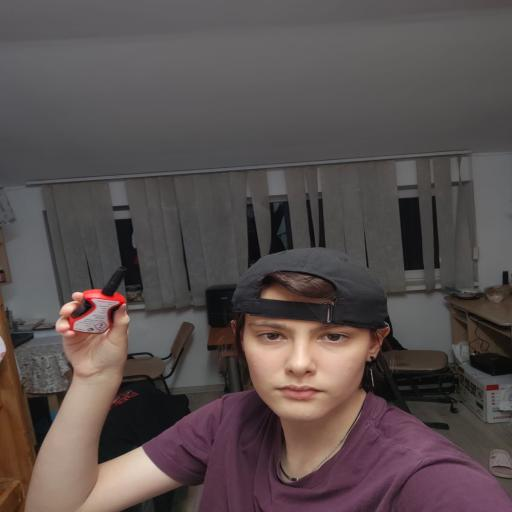Super Glue: (65, 262, 132, 330)
